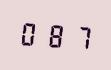eight: (43, 19, 66, 50)
seven: (67, 20, 90, 52)
zero: (18, 17, 41, 49)
